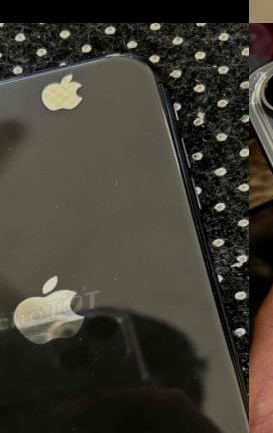physical_damage: (249, 64, 273, 109)
